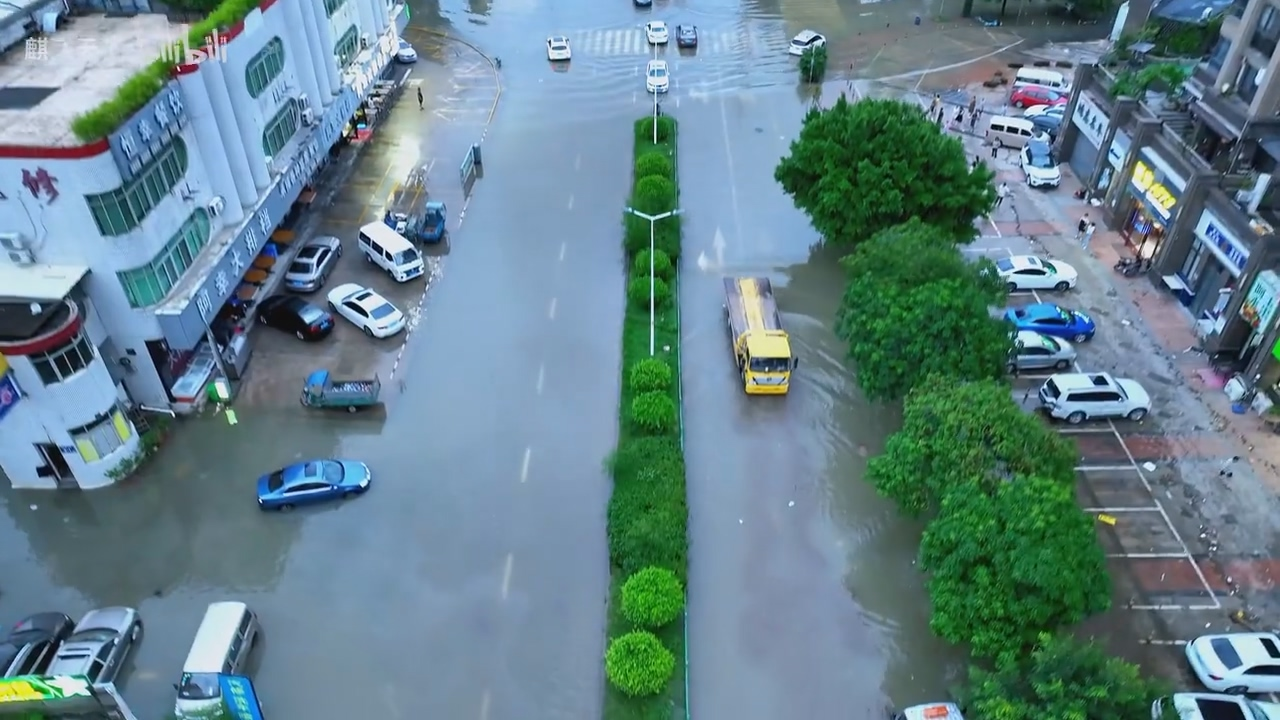puddle: (411, 169, 914, 720)
